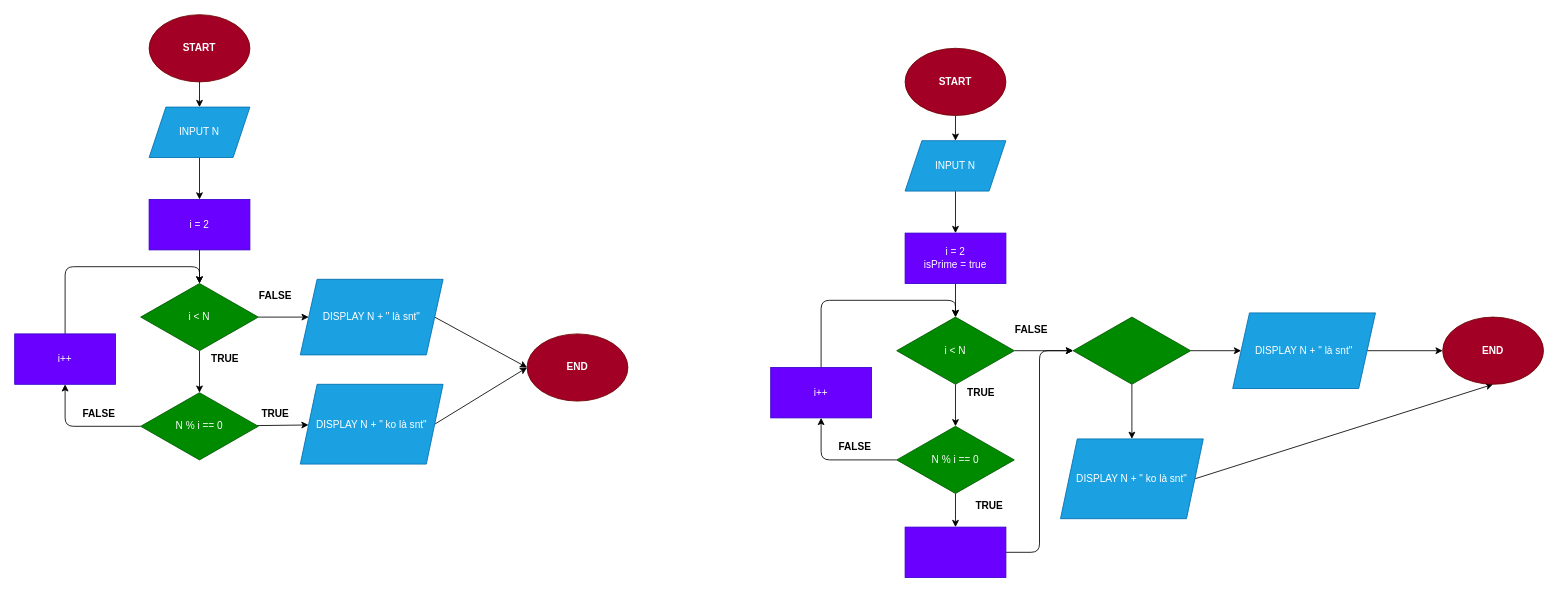
Image size: 1558x592. Some labels were removed from this diagram. Here are the shapes that lost their labels. From the top down, the centre of each, then its label:
At point 1131,350: "isPrime == true".
At point 955,552: "isPrime = false".
